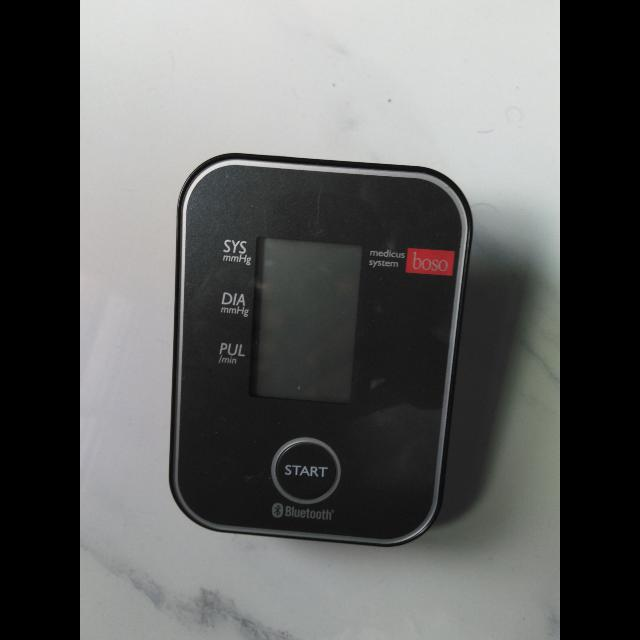Blood-Pressure-Monitor: (140, 135, 482, 552)
